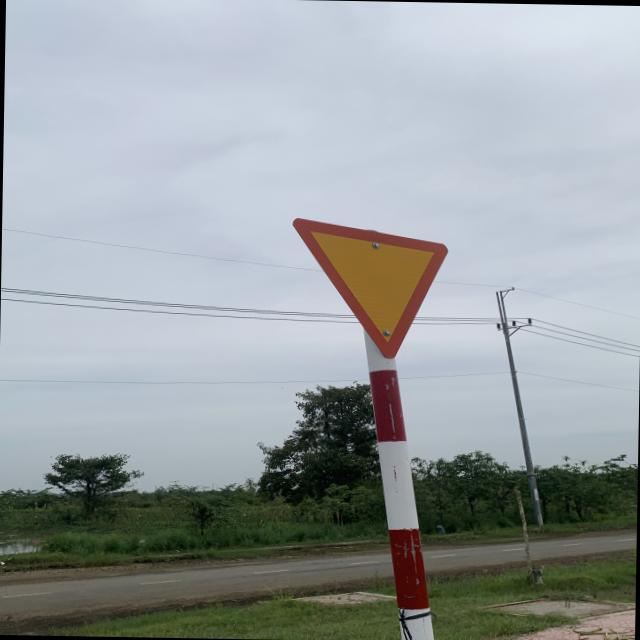Gioi_Han_Toc_Do_25: (288, 216, 450, 360)
